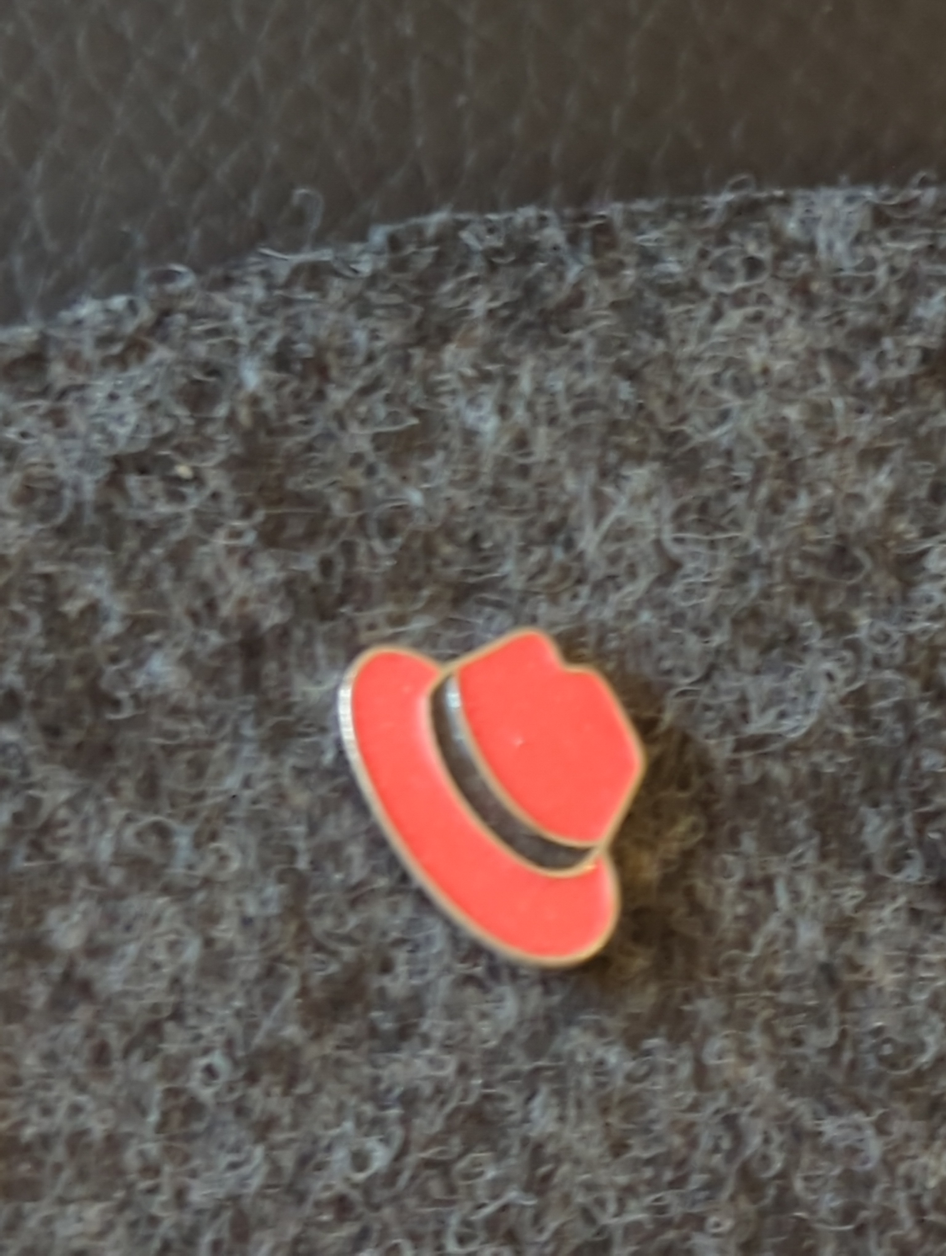Red-Hat: (209, 524, 864, 1054)
